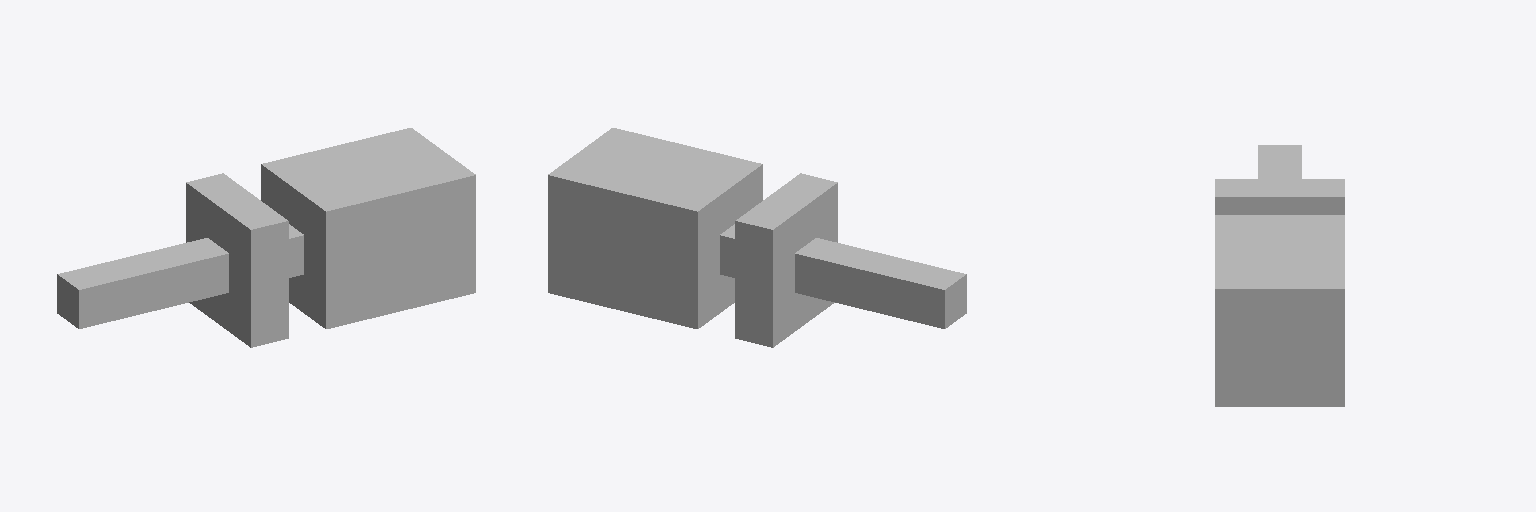
Rendered from screwDriver.obj.
3 views of the same model, side by side, from view 1: azimuth 30°, elevation 25°; view 2: azimuth 150°, elevation 25°; view 3: azimuth 270°, elevation 25° (orthographic).
Bounding box in the file's own units: 1 × 0.3 × 0.3.